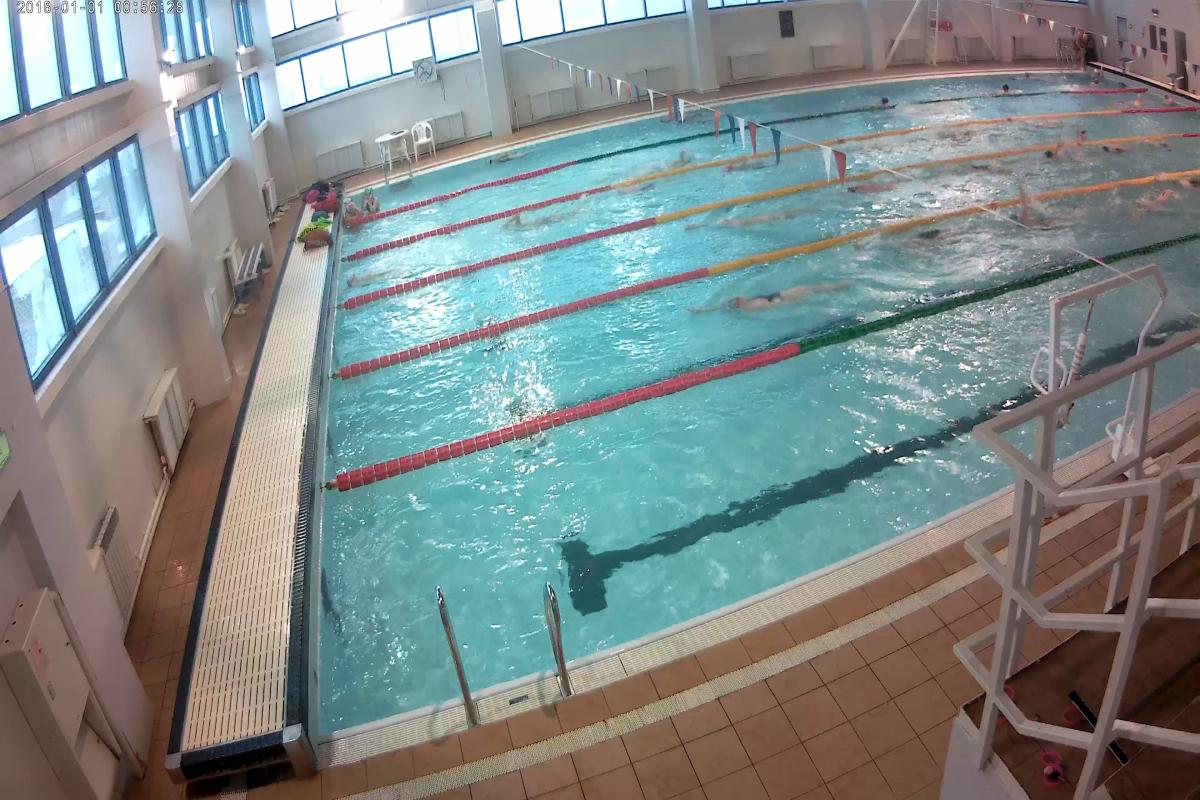swimmer: (701, 272, 855, 316), (690, 201, 820, 242), (886, 216, 956, 262), (987, 198, 1067, 234), (842, 175, 917, 197), (1130, 184, 1175, 216), (341, 260, 379, 294), (1040, 146, 1074, 162)
